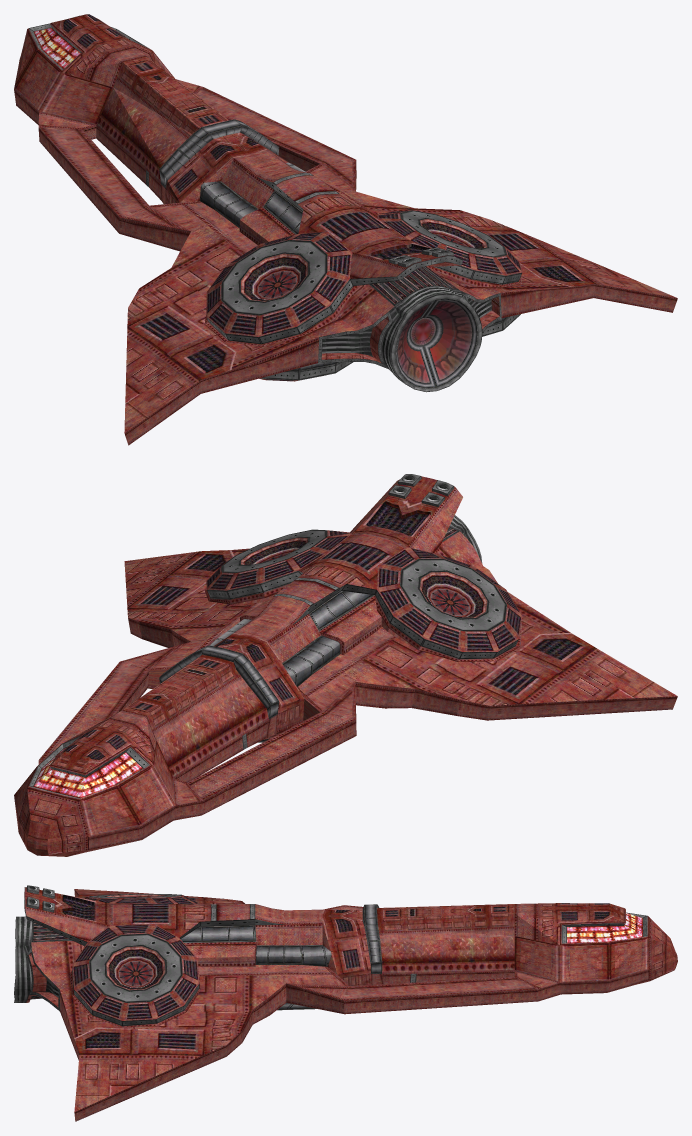
The model's file is Gjallarhorn.obj.
3 views of the same model, one above another, from view 1: azimuth 30°, elevation 25°; view 2: azimuth 150°, elevation 25°; view 3: azimuth 270°, elevation 25° (orthographic). The views are drawn at different scales.
Parts seen in each view (by area): view 1: Rapier.001; view 2: Rapier.001; view 3: Rapier.001.
Boxes of the visible parts, x1,y1,x2,y2 form: Rapier.001: (14, 14, 677, 445); Rapier.001: (14, 474, 677, 856); Rapier.001: (14, 885, 677, 1121).
Size of the model in its own units: 13.34 by 3.32 by 16.77.
Materials: 5 (5 with a texture image).
